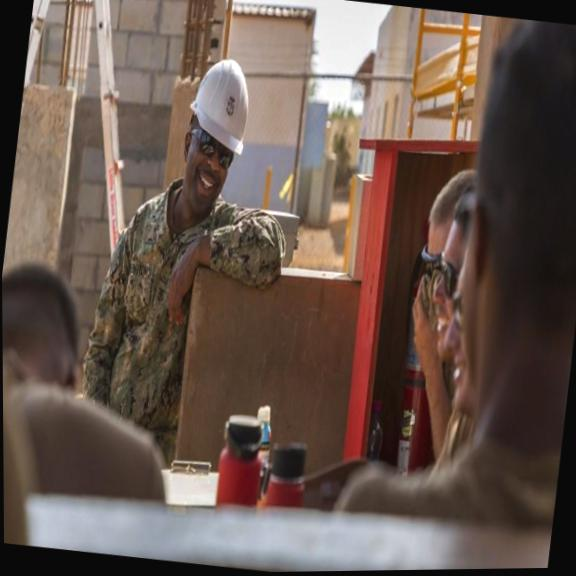no_safety_vest: (84, 174, 283, 450)
